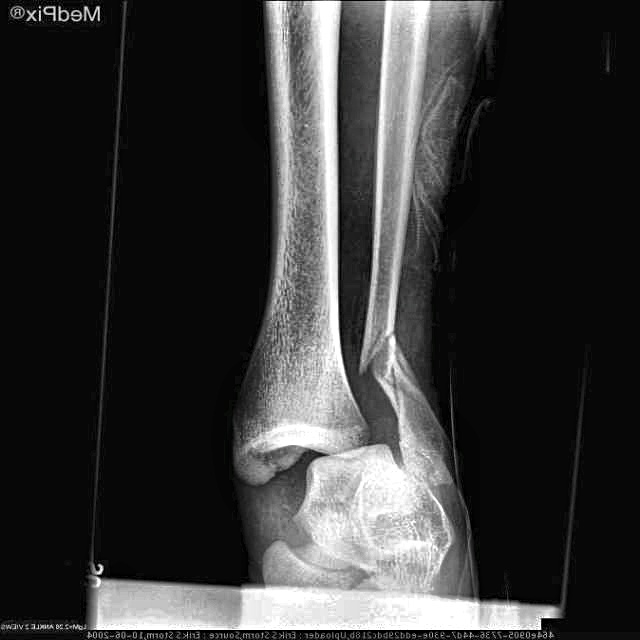Oblique Displaced: (347, 315, 417, 409)
